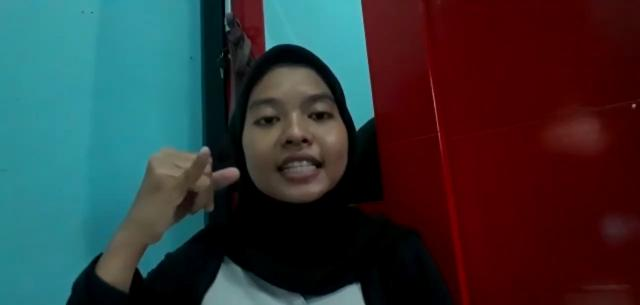J: (129, 144, 239, 240)
